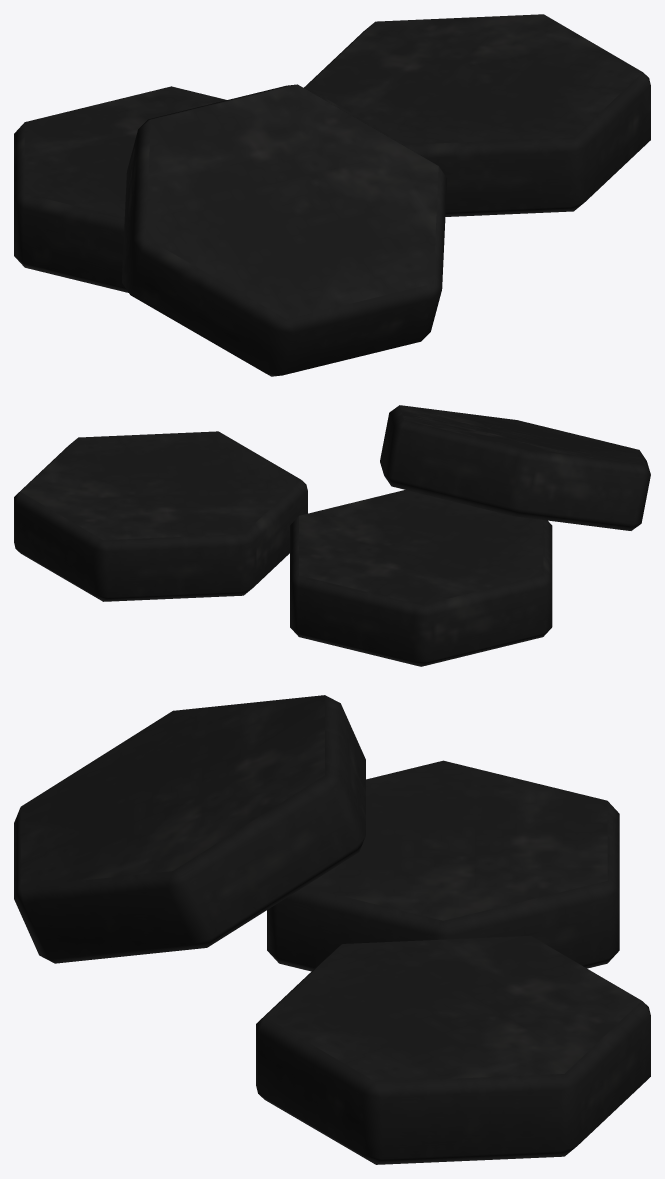
Rendered from SM_FireExtinguisher_Part_06.FBX.
3 renders of one model, top to bottom at view 1: azimuth 30°, elevation 25°; view 2: azimuth 150°, elevation 25°; view 3: azimuth 270°, elevation 25°, orthographic. The views are drawn at different scales.
Visible parts, largest first — view 1: SM_FireExtinguisher_Part_06_LOD0; view 2: SM_FireExtinguisher_Part_06_LOD0; view 3: SM_FireExtinguisher_Part_06_LOD0.
Boxes of the visible parts, <box> form: SM_FireExtinguisher_Part_06_LOD0: <box>14,14,650,376</box>; SM_FireExtinguisher_Part_06_LOD0: <box>14,405,650,666</box>; SM_FireExtinguisher_Part_06_LOD0: <box>14,695,650,1164</box>.
Size of the model in its own units: 7.14 by 5.83 by 1.9.
